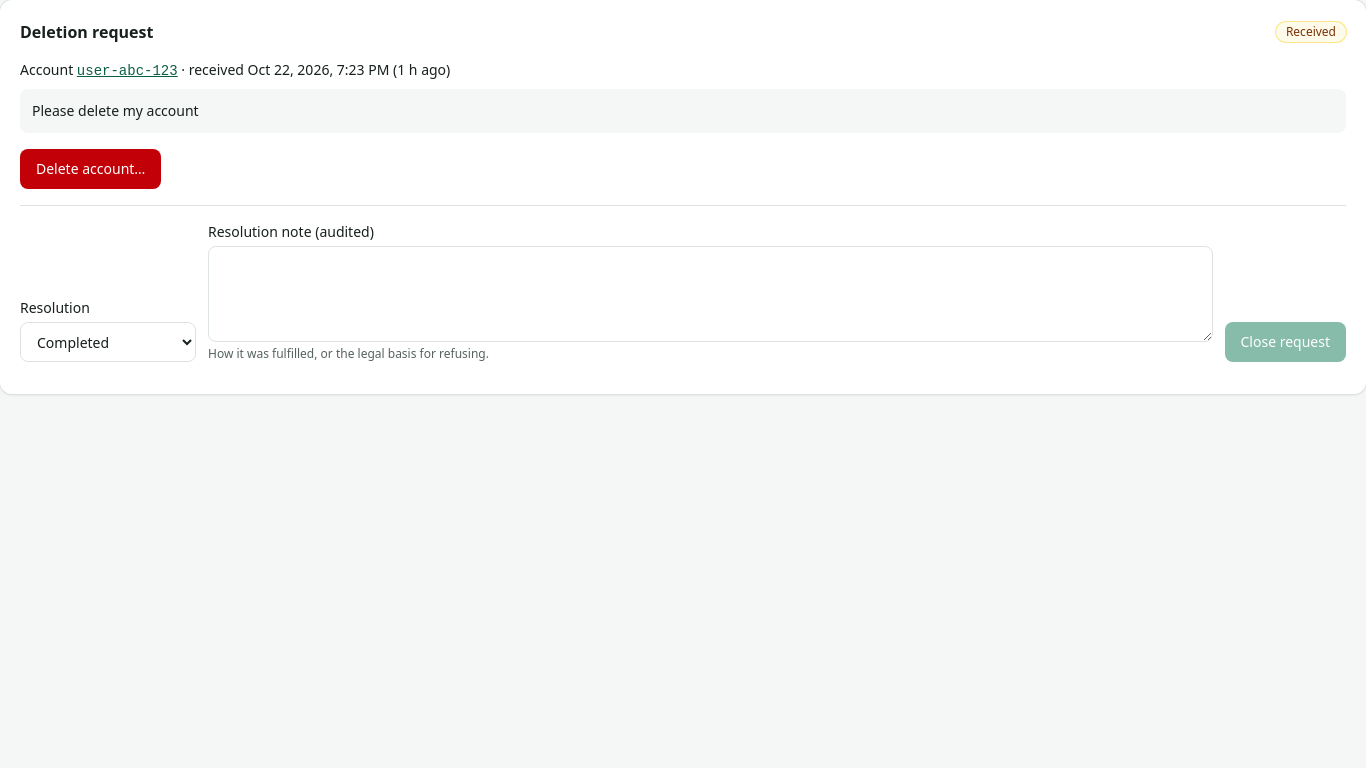
Test: privacy request handling › requires the exact account id before deleting
Click the button "Delete account…": [91, 169] box [20, 149, 161, 189]
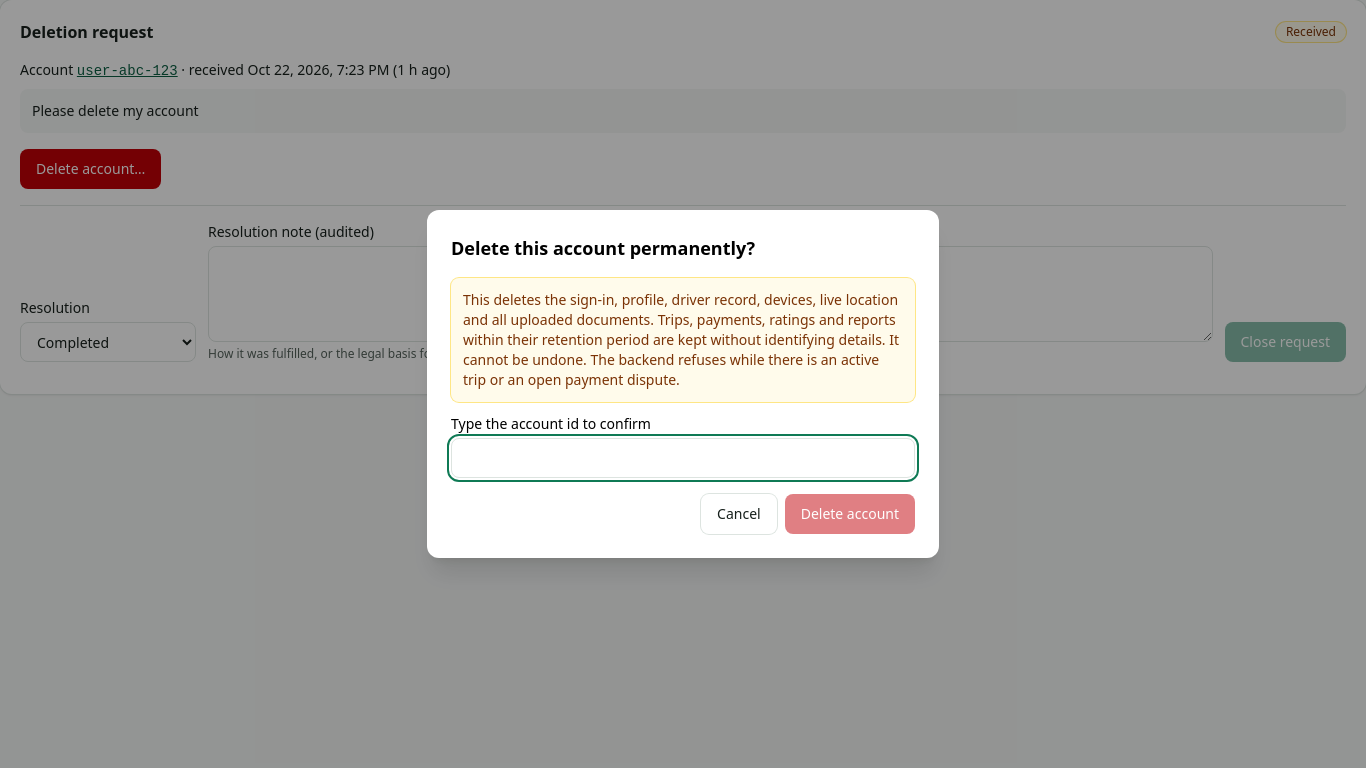
Expected: the button "Delete account" is disabled, [785, 494, 915, 534]
In the field labelled "Type the account id to confirm": [683, 458] box [451, 438, 915, 478], type "user-abc-12"
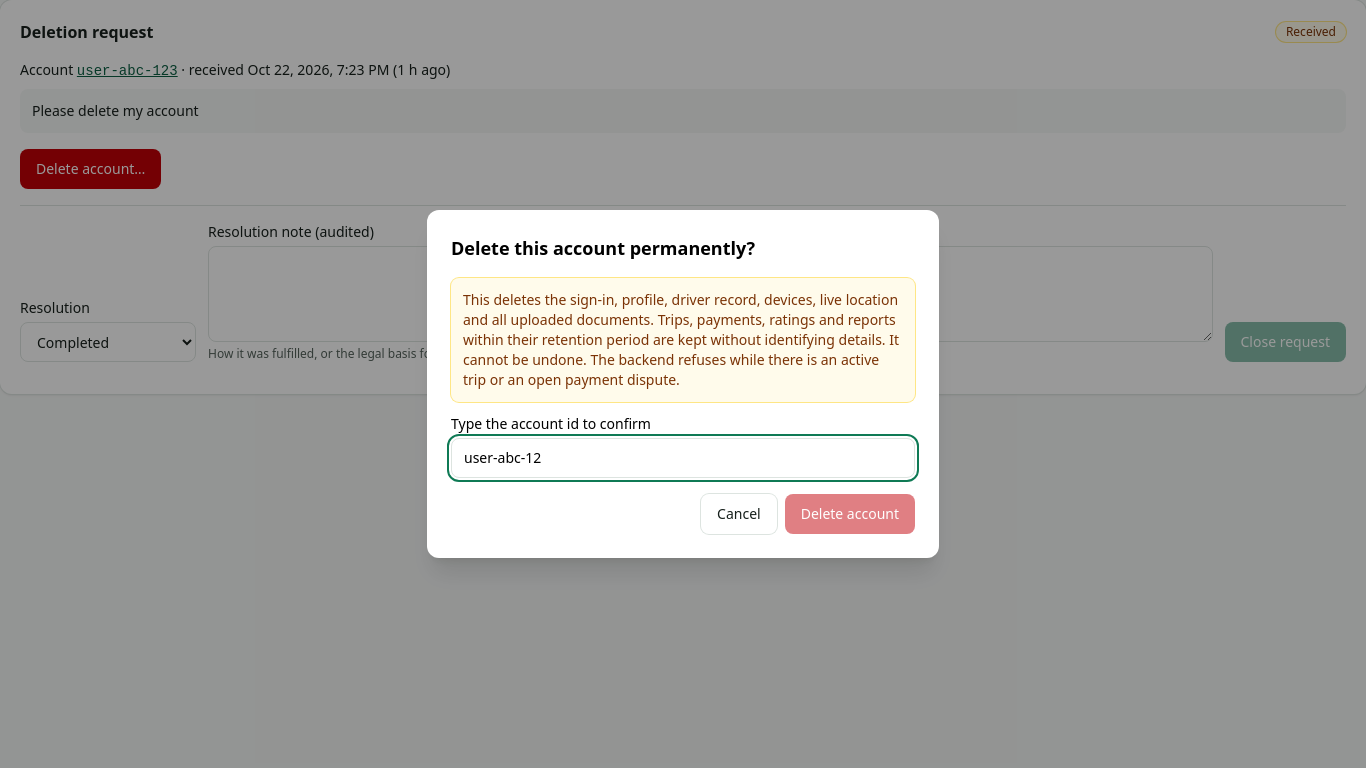
Expected: the button "Delete account" is disabled, [785, 494, 915, 534]
In the field labelled "Type the account id to confirm": [683, 458] box [451, 438, 915, 478], type "3"
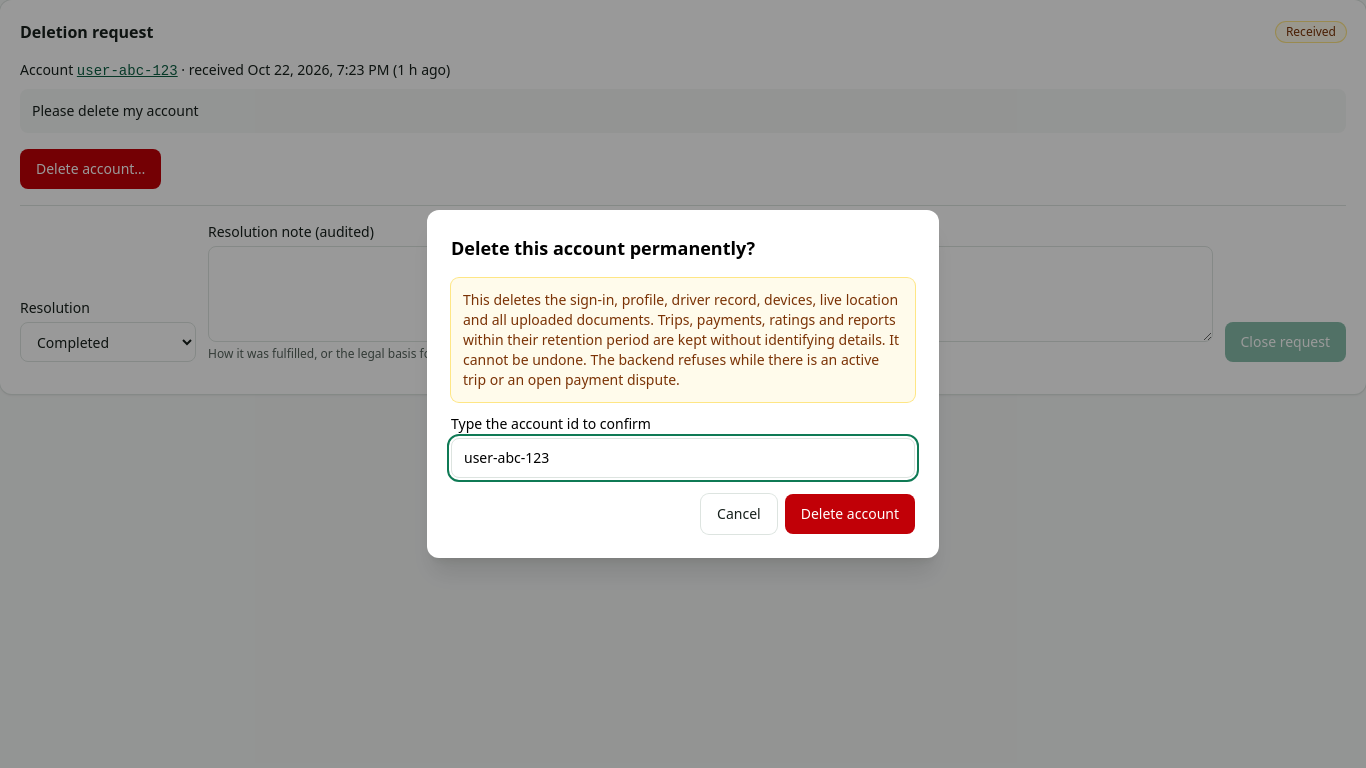
Expected: the button "Delete account" is enabled
Click the button "Delete account": [850, 514] box [785, 494, 915, 534]
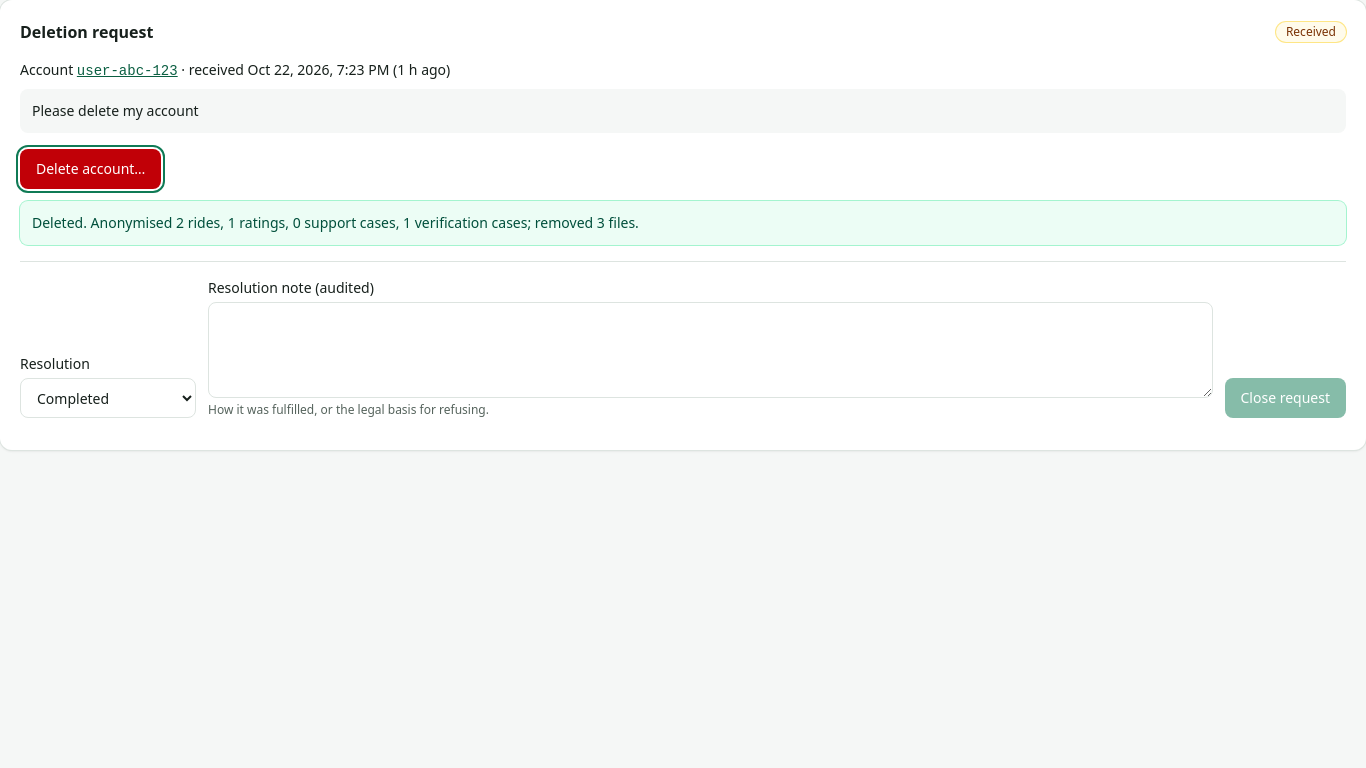
Expected: the text "Anonymised 2 rides" is shown, [32, 213, 639, 232]
